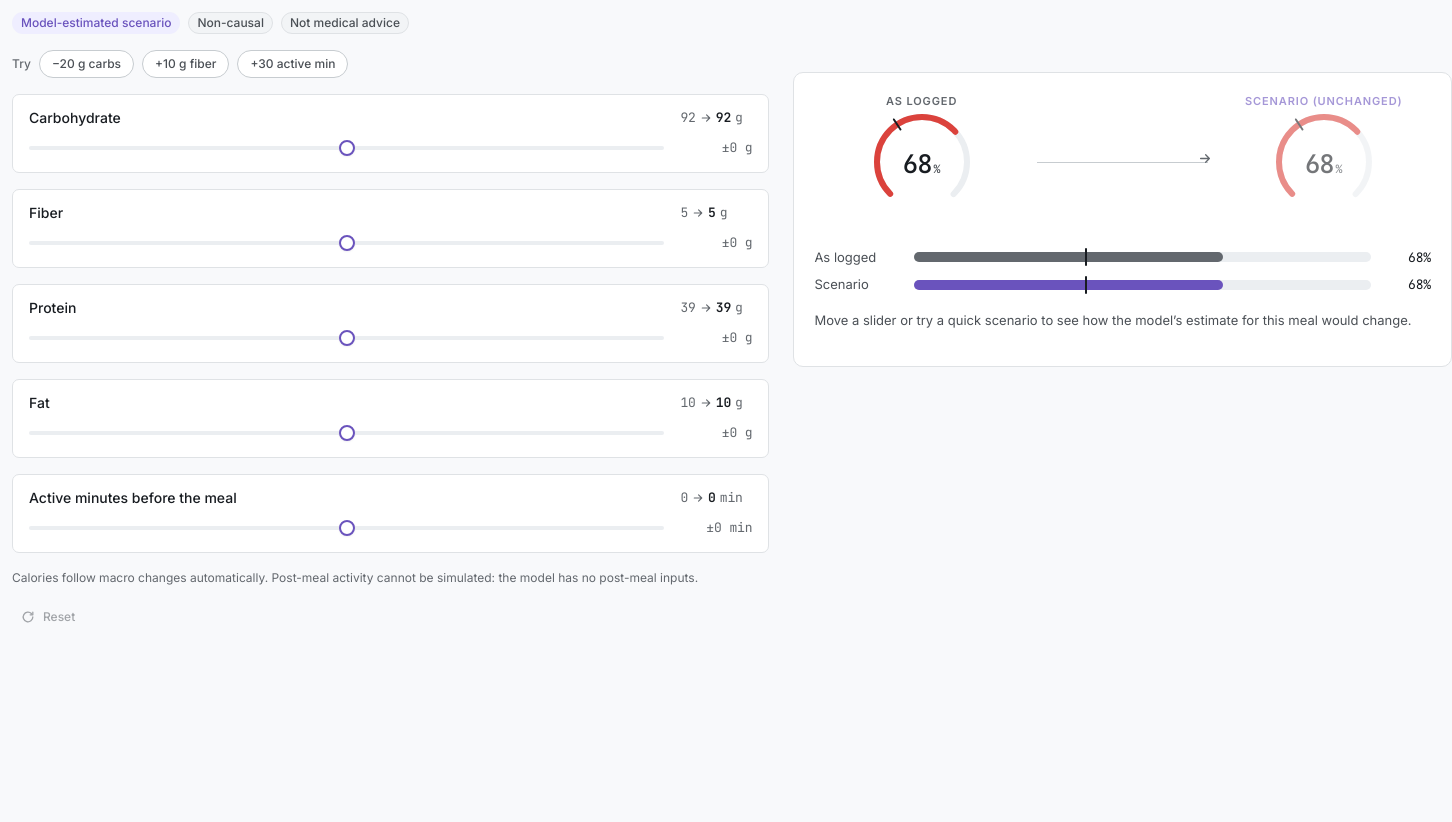
what-if comparison › runs a quick scenario through the same request
Click the button "−20 g carbs" at point(86, 64), box [39,50,134,78]
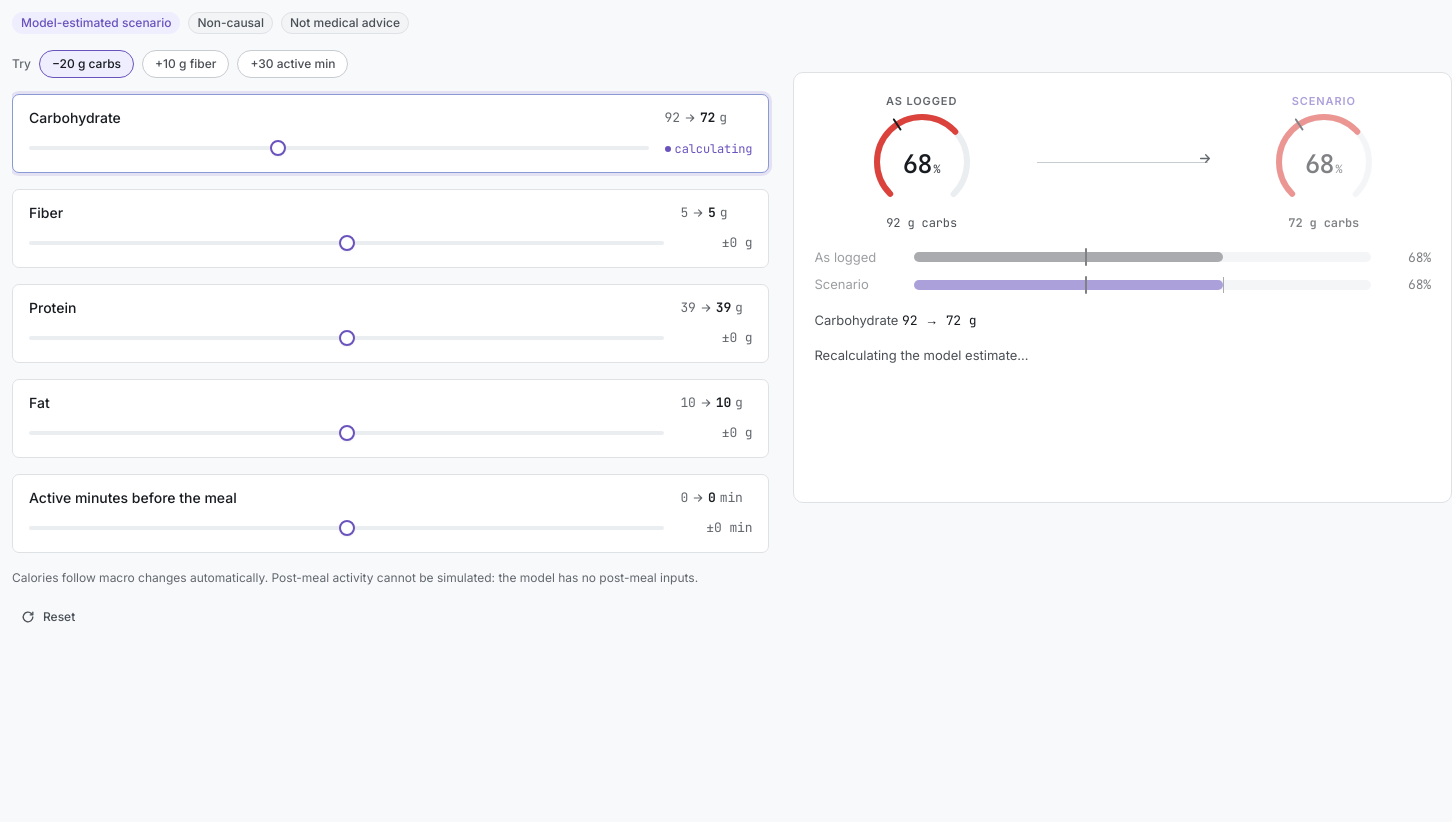
Now the slider labelled "Carbohydrate" holds "-20", box [29,136,649,160]
